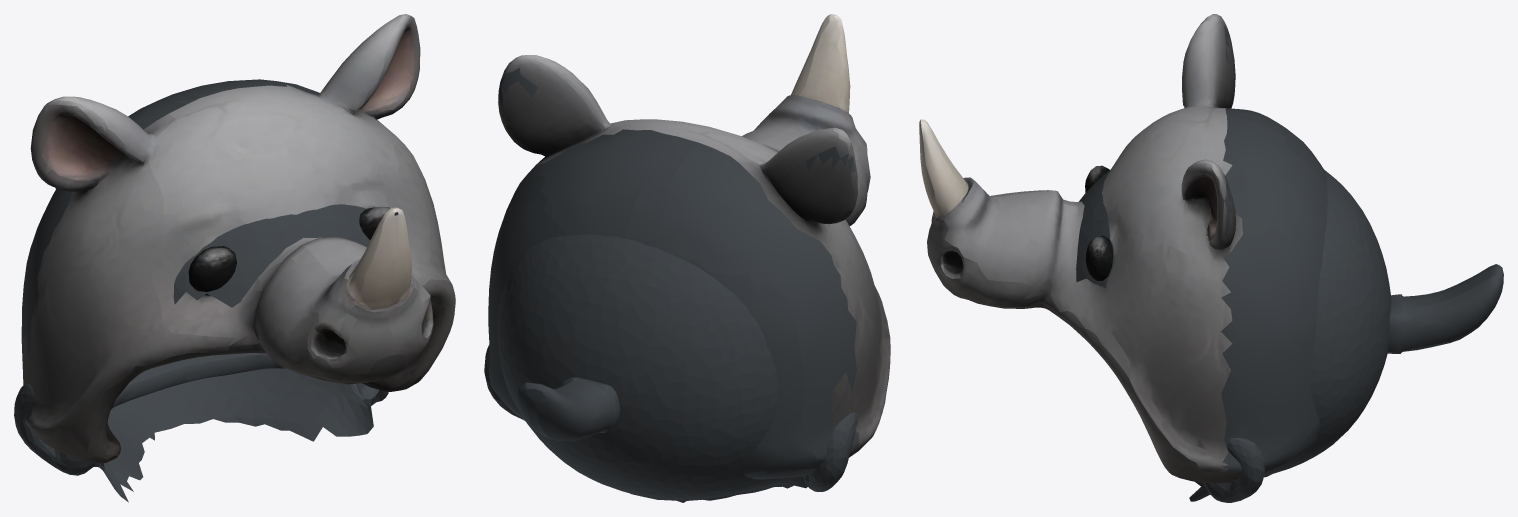
The model's file is rhino.glb.
3 views of the same model, side by side, from view 1: azimuth 30°, elevation 25°; view 2: azimuth 150°, elevation 25°; view 3: azimuth 270°, elevation 25° (orthographic). The views are drawn at different scales.
Parts seen in each view (by area): view 1: geometry_0, HoodAnatomicalLining; view 2: geometry_0, HoodAnatomicalLining; view 3: geometry_0, HoodAnatomicalLining.
Boxes of the visible parts, x1,y1,x2,y2 form: geometry_0: [21, 14, 455, 463]; HoodAnatomicalLining: [14, 204, 388, 502]; geometry_0: [488, 14, 890, 479]; HoodAnatomicalLining: [484, 234, 857, 502]; geometry_0: [919, 14, 1503, 483]; HoodAnatomicalLining: [1076, 170, 1391, 502].
Size of the model in its own units: 0.5281 by 0.5133 by 0.7414.
2 materials, 1 textured.
